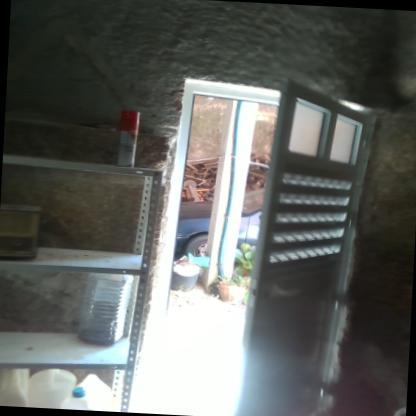semi: (145, 66, 386, 415)
